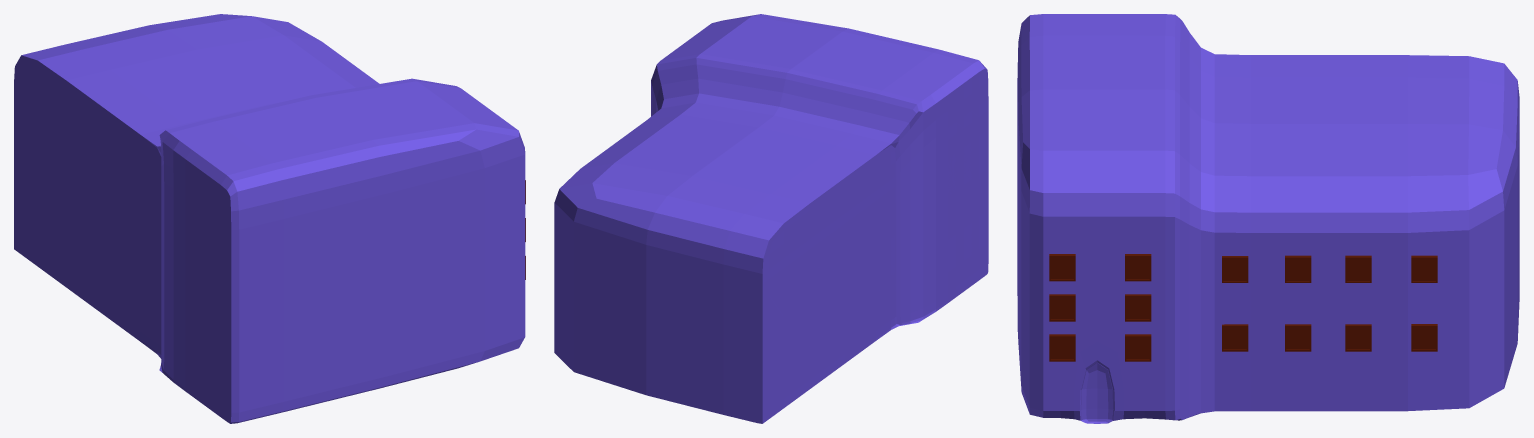
The model's file is Casa Teste.fbx.
3 renders of one model, left to right at view 1: azimuth 30°, elevation 25°; view 2: azimuth 150°, elevation 25°; view 3: azimuth 270°, elevation 25°, orthographic. The views are drawn at different scales.
Visible parts, largest first — view 1: Casa; view 2: Casa; view 3: Casa, Janela 1.002, Janela 1.003, Janela 1.004, Janela 1.005, Janela 1.006, Janela 1.007, Janela 1.008, Janela 1.010, Janela 1.011, Janela 1.012, Janela 1.013 (+3 smaller).
Boxes of the visible parts, left/top/right/bottom form: Casa: left=14, top=14, right=525, bottom=423; Casa: left=554, top=14, right=988, bottom=423; Casa: left=1017, top=14, right=1519, bottom=423; Janela 1.002: left=1345, top=255, right=1371, bottom=282; Janela 1.003: left=1411, top=255, right=1437, bottom=282; Janela 1.004: left=1222, top=324, right=1248, bottom=351; Janela 1.005: left=1285, top=324, right=1311, bottom=351; Janela 1.006: left=1345, top=324, right=1371, bottom=351; Janela 1.007: left=1411, top=324, right=1437, bottom=351; Janela 1.008: left=1049, top=254, right=1075, bottom=281; Janela 1.010: left=1049, top=294, right=1075, bottom=321; Janela 1.011: left=1125, top=294, right=1151, bottom=321; Janela 1.012: left=1049, top=334, right=1075, bottom=361; Janela 1.013: left=1125, top=334, right=1151, bottom=361.
Size of the model in its own units: 1508 by 1133 by 2005.
